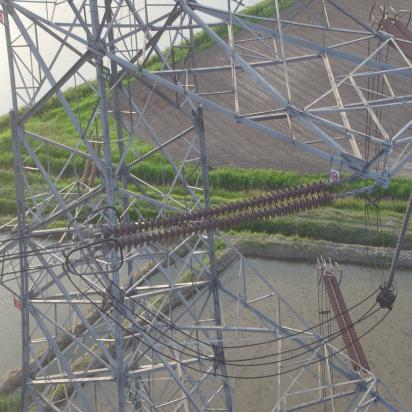insulator: (111, 179, 346, 252), (320, 274, 374, 377)
